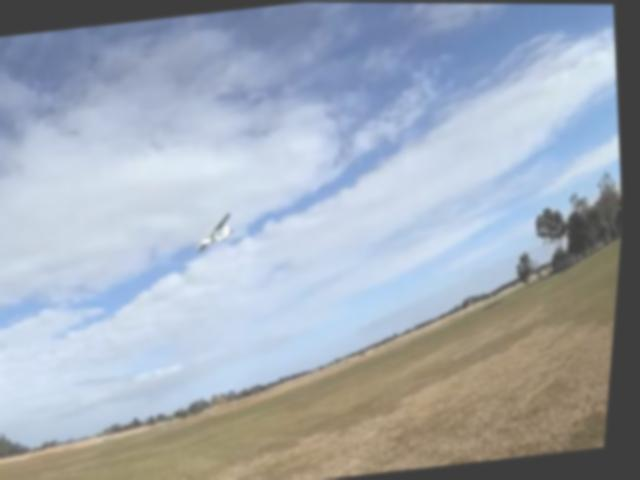uav: (190, 203, 247, 260)
